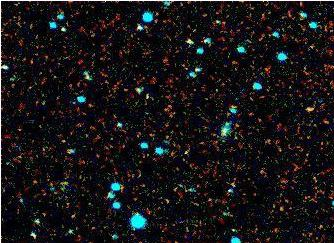star: (174, 136, 204, 166)
